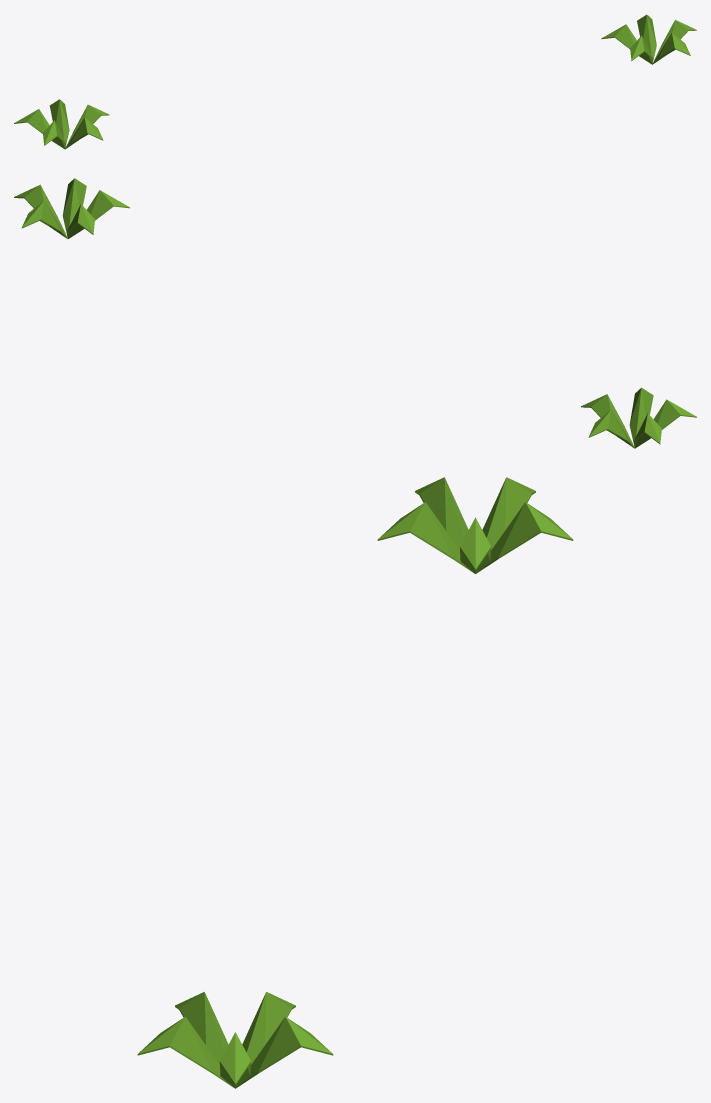
The model's file is decoration.glb.
3 renders of one model, top to bottom at view 1: azimuth 30°, elevation 25°; view 2: azimuth 150°, elevation 25°; view 3: azimuth 270°, elevation 25°, orthographic. The views are drawn at different scales.
Parts seen in each view (by area): view 1: Decor_Cloud_Meadow; view 2: Decor_Cloud_Meadow; view 3: Decor_Cloud_Meadow.
Boxes of the visible parts, box(x1,y1,x2,y2) form: Decor_Cloud_Meadow: box(14, 14, 696, 149); Decor_Cloud_Meadow: box(14, 178, 696, 448); Decor_Cloud_Meadow: box(137, 477, 573, 1088).
Bounding box in the file's own units: 1.64 × 0.102 × 0.5083.
